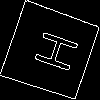H: (25, 26, 80, 75)
